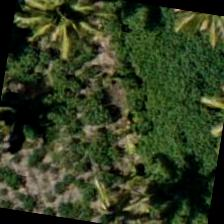Kelapa_Sawit: (8, 0, 108, 66)
